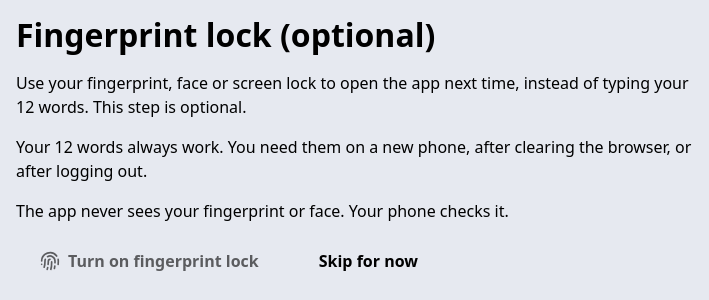
Scenario: FingerprintScreen: skipping › Skip goes to the PIN offer, keeps the enrolment key for it and never touches the lock
This screenshot has width=709, height=300.
Click the button "Skip for now" at (368, 261), box x1=295 y1=239 x2=442 y2=283
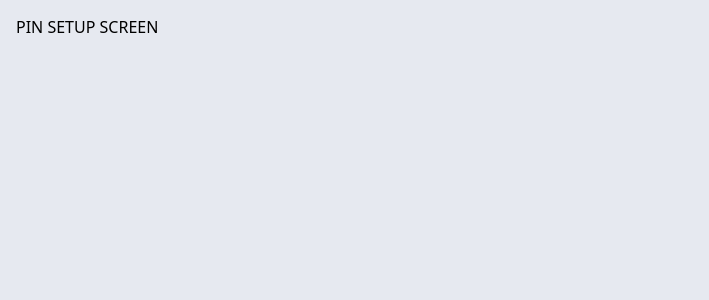
Now the text "PIN SETUP SCREEN" is shown, box x1=16 y1=16 x2=158 y2=38
